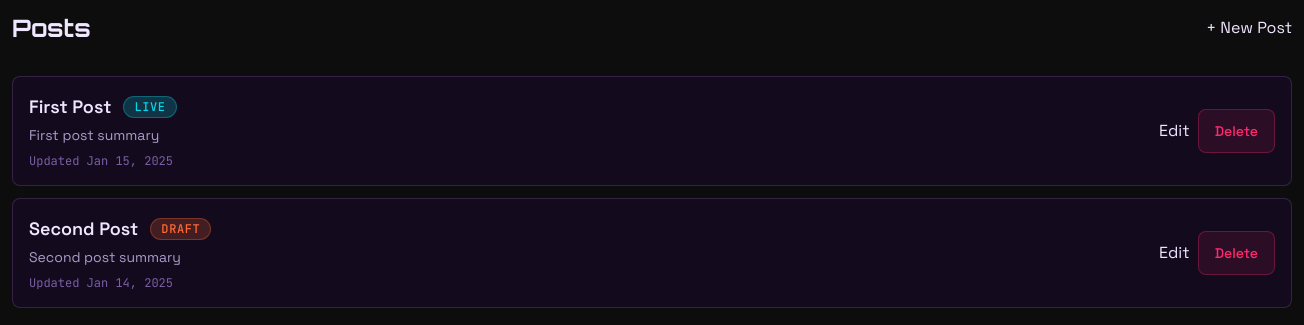
Scenario: AdminDashboard › should display error when delete fails
This screenshot has width=1304, height=325.
Expected: the heading "First Post" is shown, [29,93,111,121]
Click the button "Delete" in the row of "LIVE".
click(1236, 131)  # box [1198,109,1275,153]
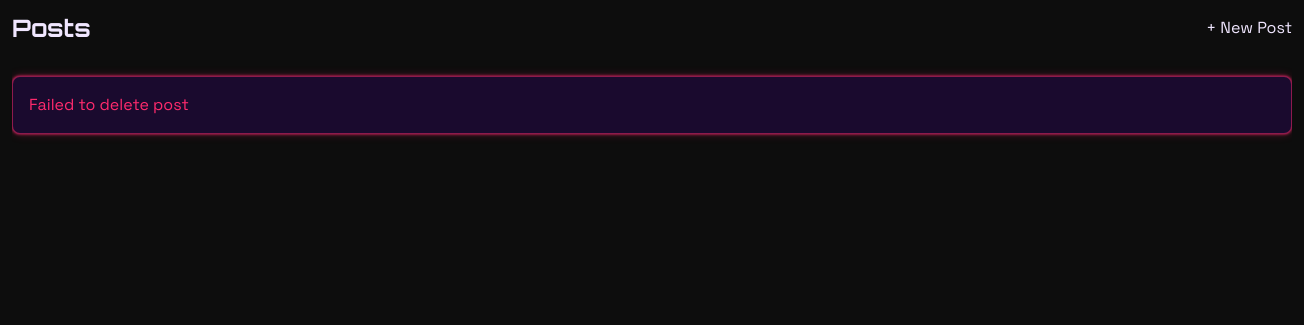
Now the text "Failed to delete post" is shown, box [12,76,1292,134]
